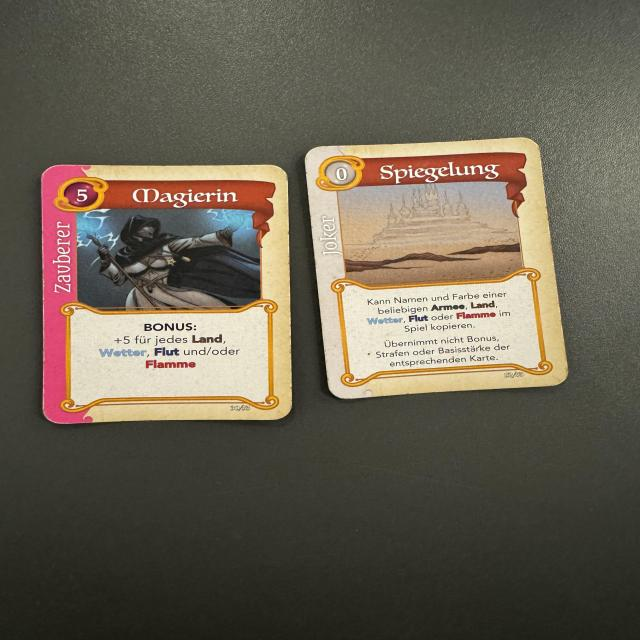Elemental Enchantress: (41, 164, 295, 424)
Mirage: (299, 139, 572, 401)
